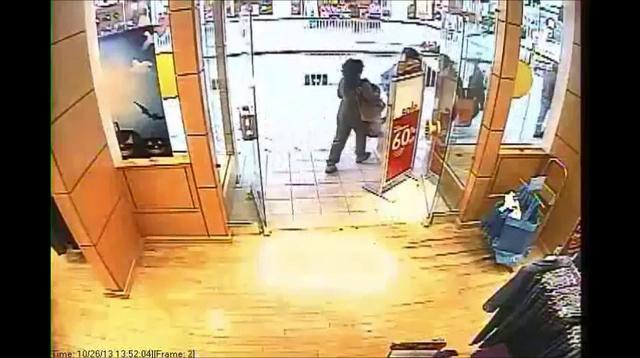Customer-Bagpack: (357, 101, 387, 125)
Regular: (317, 46, 392, 206)
